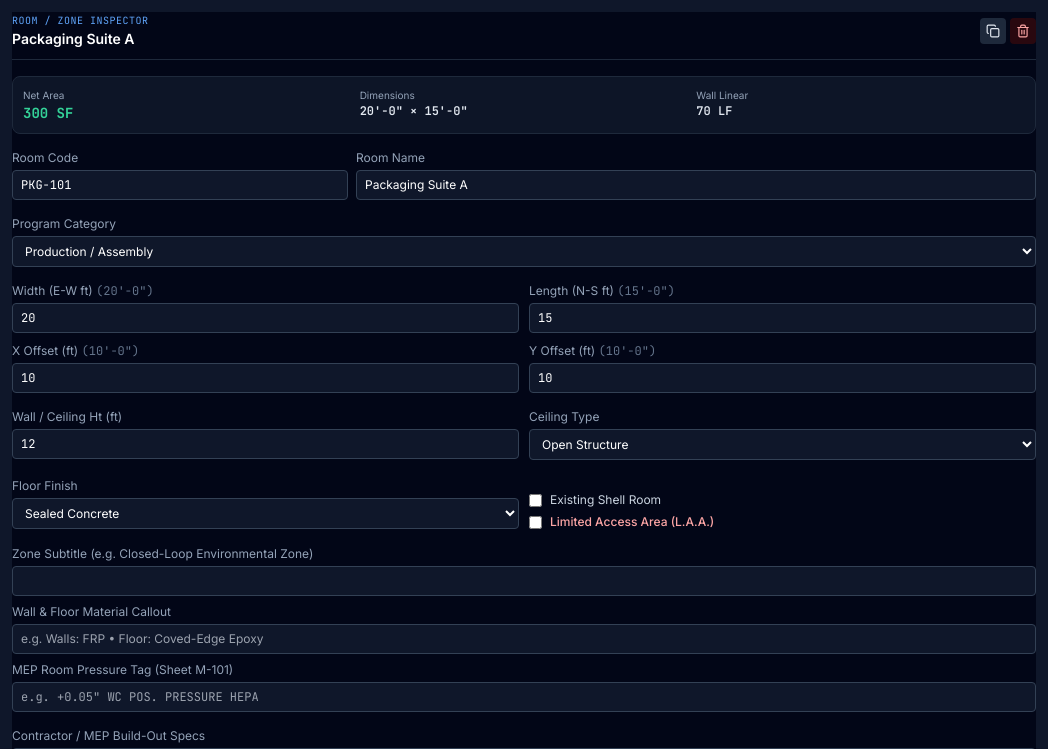
Test: RoomInspector component › updates room name on input change
Replace the text in the field showing "Packaging Suite A" below "Room Name" with "Automated Packaging Suite". click: (696, 185)
box: x1=356 y1=170 x2=1036 y2=200
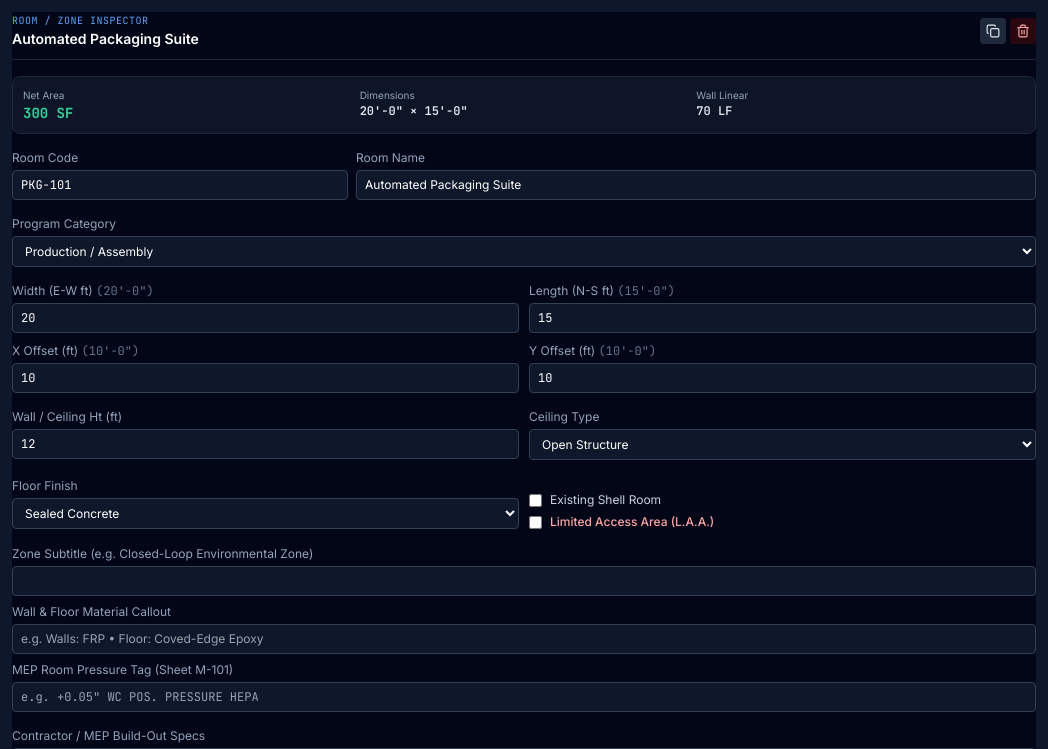
Expected: the heading "Automated Packaging Suite" is shown, x1=12 y1=29 x2=199 y2=49
